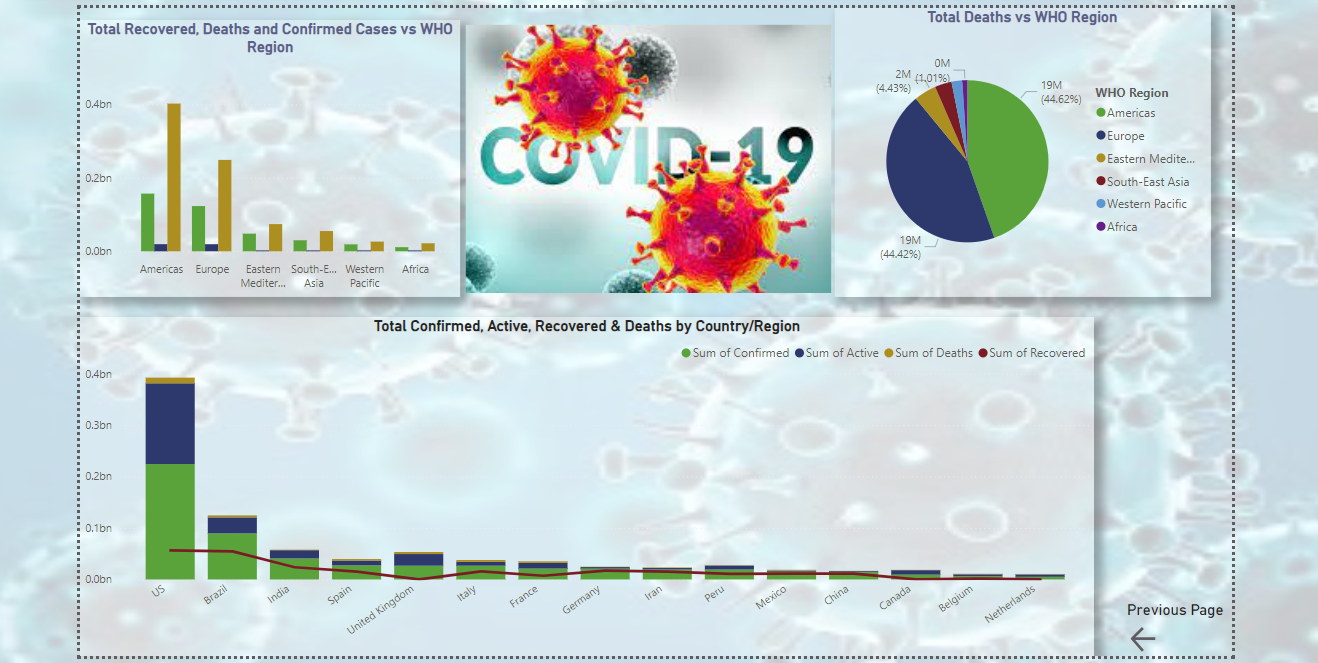

The page's visual inventory and layout, read from the dashboard file:
{"tool":"powerbi","page":{"name":"Report2","canvas":[1280,720],"ordinal":1},"visuals":[{"type":"actionButton","title":"Previous Page","box":[1162.6,659,118.2,61.5],"z":0},{"type":"lineStackedColumnComboChart","title":"Total Confirmed, Active, Recovered & Deaths by Country/Region","fields":{"Category":["full_grouped.Country/Region"],"Y":["Sum(full_grouped.Confirmed)","Sum(full_grouped.Active)","Sum(full_grouped.Deaths)"],"Y2":["Sum(full_grouped.Recovered)"]},"box":[0,343.3,1127,377.3],"z":1000},{"type":"pieChart","title":"Total Deaths vs WHO Region","fields":{"Category":["covid_19_clean_complete.WHO Region"],"Y":["Sum(covid_19_clean_complete.Deaths)"]},"box":[838.8,0,417.8,320.6],"z":2000},{"type":"lineClusteredColumnComboChart","title":"Total Recovered, Deaths and Confirmed Cases vs WHO Region","fields":{"Category":["covid_19_clean_complete.WHO Region"],"Y":["Sum(covid_19_clean_complete.Recovered)","Sum(covid_19_clean_complete.Deaths)","Sum(covid_19_clean_complete.Confirmed)"]},"box":[0,13,422.6,307.7],"z":3000},{"type":"image","box":[423,13,416,308],"z":4000}]}

Visuals, with their boxes on the page's 1280x720 design canvas (x1, y1, x2, y2). These are canvas units, not pixel positions in the 1318x663 screenshot, which may show the page scaled, cropped or inside an application window:
"Previous Page" actionButton: bbox=(1163, 659, 1281, 720)
"Total Confirmed, Active, Recovered & Deaths by Country/Region" lineStackedColumnComboChart: bbox=(0, 343, 1127, 721)
"Total Deaths vs WHO Region" pieChart: bbox=(839, 0, 1257, 321)
"Total Recovered, Deaths and Confirmed Cases vs WHO Region" lineClusteredColumnComboChart: bbox=(0, 13, 423, 321)
image: bbox=(423, 13, 839, 321)
